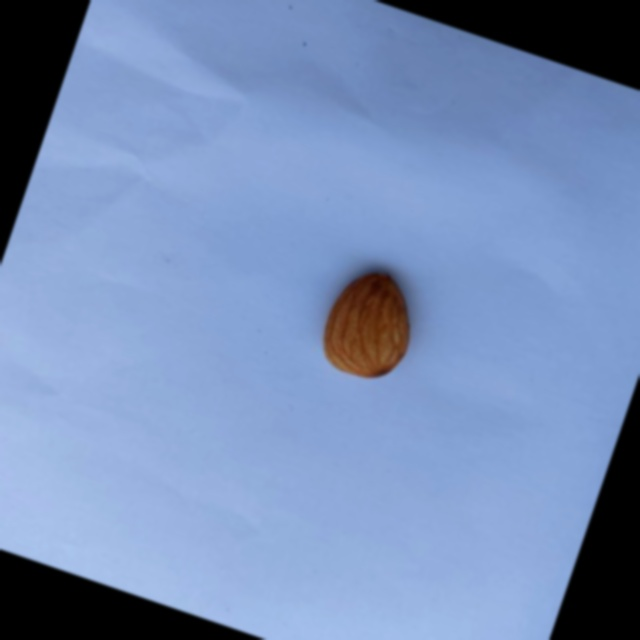grade1: (301, 250, 437, 397)
